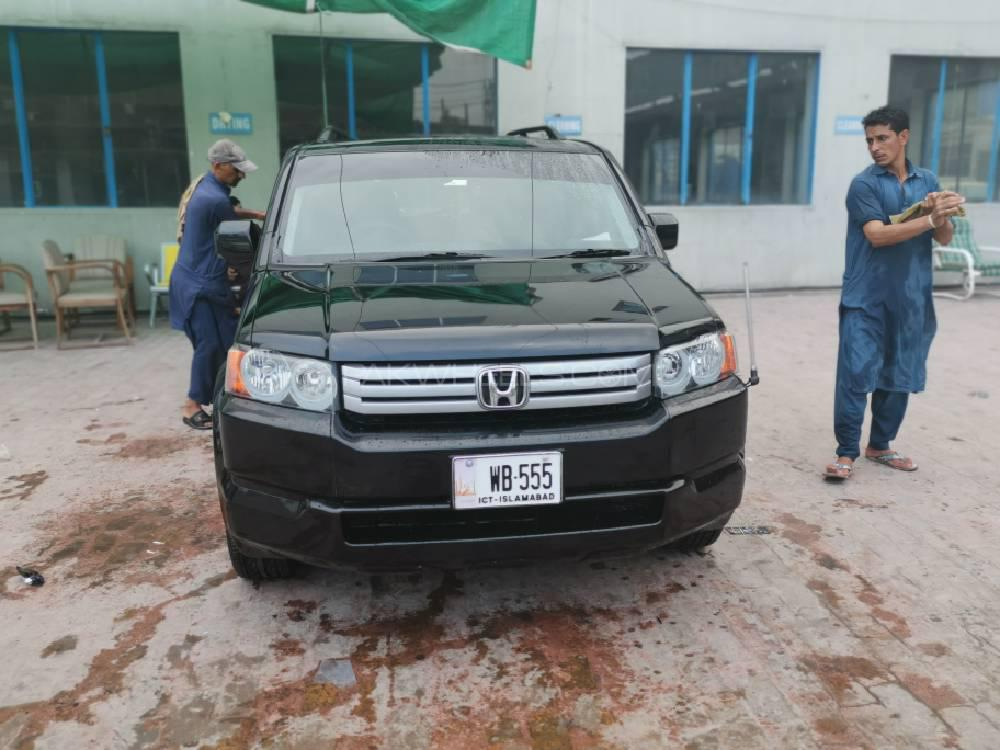license plate: (452, 456, 565, 507)
